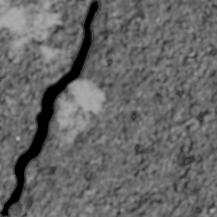brick: (0, 0, 216, 216)
crack: (0, 2, 98, 215)
